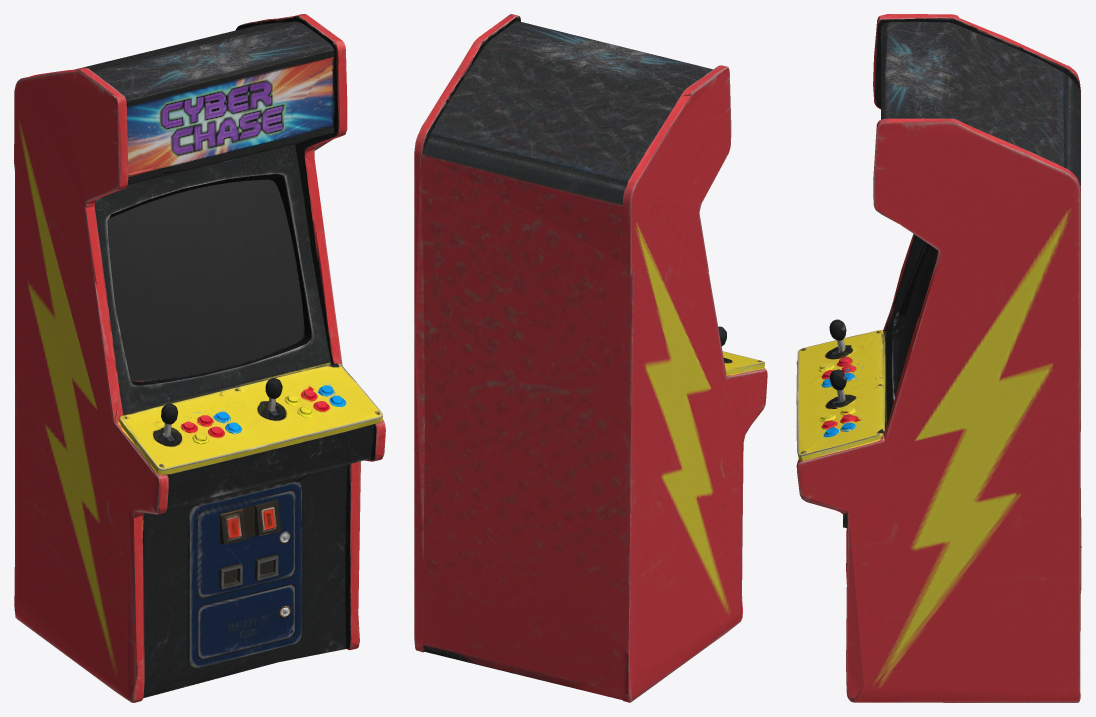
Rendered from arcade_cabinet_b.glb.
The picture shows the model from 3 angles, left to right: view 1: azimuth 30°, elevation 25°; view 2: azimuth 150°, elevation 25°; view 3: azimuth 270°, elevation 25°; orthographic projection. The views are drawn at different scales.
Size of the model in its own units: 0.7639 by 1.9 by 0.8439.
1 material, 1 textured.
